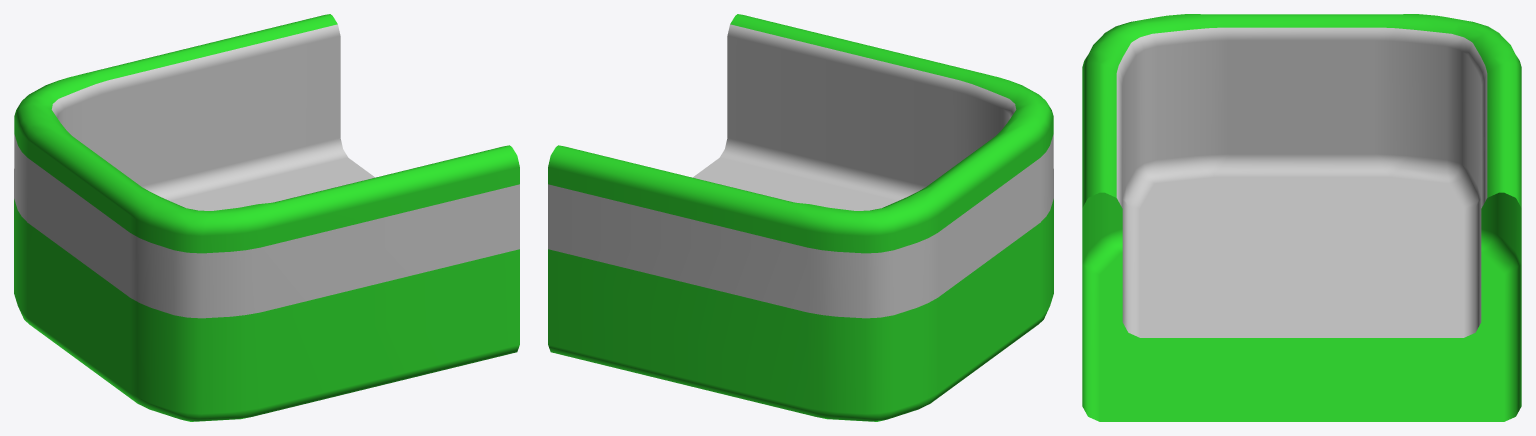
File: ContainerBorderU.fbx
3 views of the same model, side by side, from view 1: azimuth 30°, elevation 25°; view 2: azimuth 150°, elevation 25°; view 3: azimuth 270°, elevation 25° (orthographic). The views are drawn at different scales.
Parts seen in each view (by area): view 1: ContainerBorderU; view 2: ContainerBorderU; view 3: ContainerBorderU.
Boxes of the visible parts, box(x1,y1,x2,y2) form: ContainerBorderU: box(14, 14, 519, 421); ContainerBorderU: box(548, 14, 1053, 421); ContainerBorderU: box(1082, 14, 1521, 421).
Bounding box in the file's own units: 50 × 28.78 × 50.
